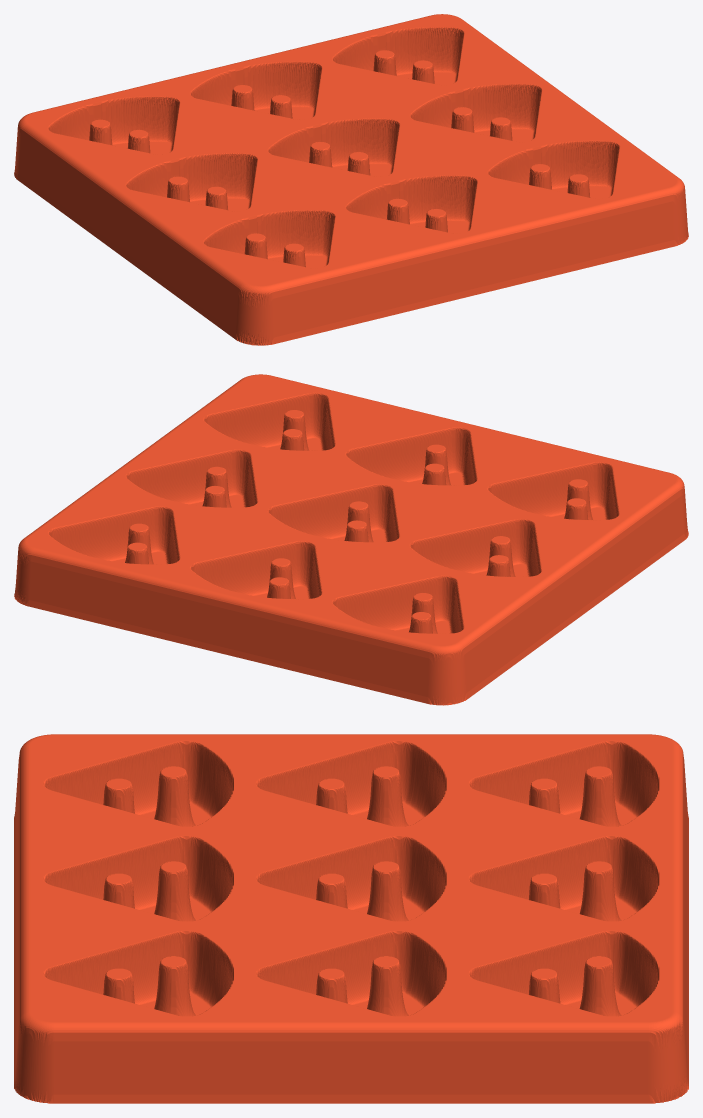
The model's file is mold.glb.
3 views of the same model, one above another, from view 1: azimuth 30°, elevation 25°; view 2: azimuth 150°, elevation 25°; view 3: azimuth 270°, elevation 25° (orthographic). The views are drawn at different scales.
Parts seen in each view (by area): view 1: geometry_0; view 2: geometry_0; view 3: geometry_0.
Boxes of the visible parts, box(x1,y1,x2,y2) form: geometry_0: box(14, 14, 688, 345); geometry_0: box(14, 374, 688, 705); geometry_0: box(14, 734, 688, 1103).
Bounding box in the file's own units: 0.1595 × 0.0185 × 0.1515.
